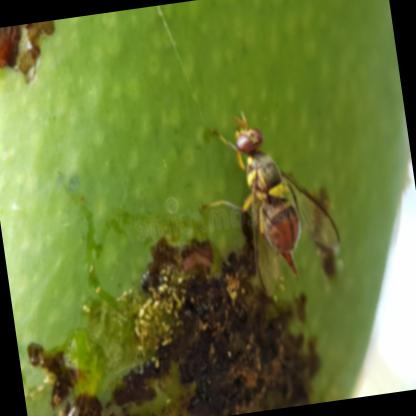fruit fly: (204, 111, 341, 300)
